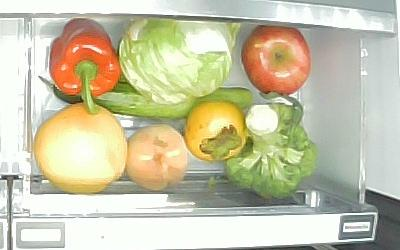apple: (243, 23, 312, 95)
broccoli: (226, 99, 316, 200)
cucumber: (38, 75, 254, 120)
grapefruit: (35, 104, 127, 194)
lettuce: (118, 19, 238, 100)
paprika: (49, 19, 120, 115)
peach: (127, 124, 187, 192)
persimmon: (183, 102, 247, 160)
